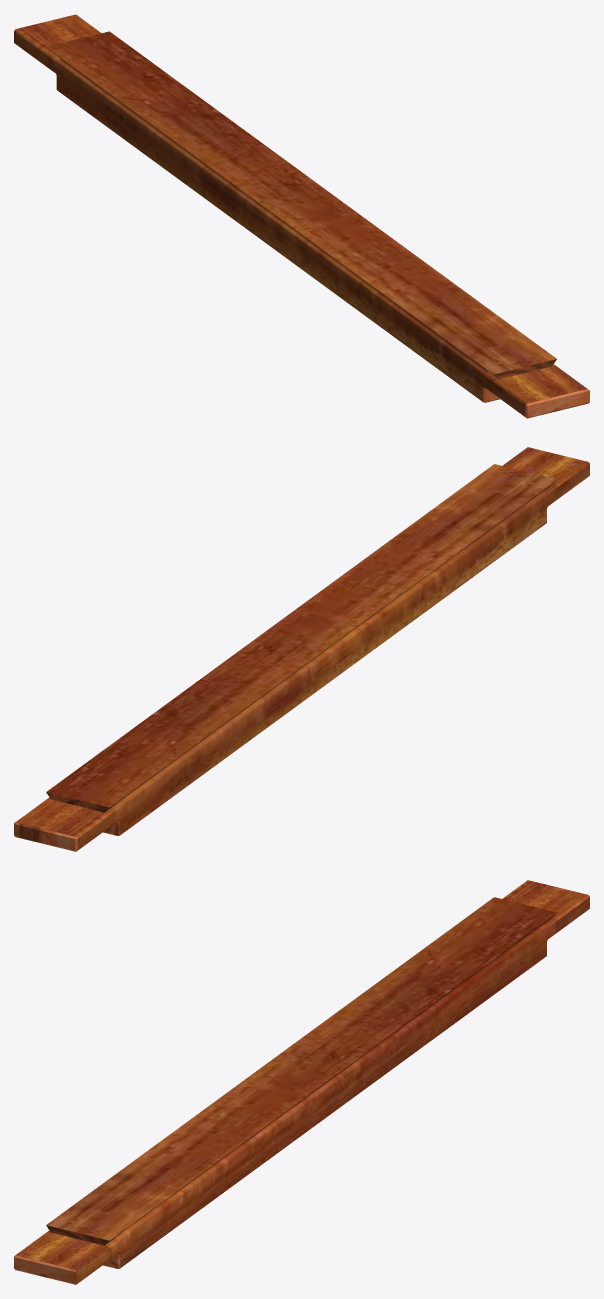
The model's file is SJ_J_dgcd_12.FBX.
3 views of the same model, one above another, from view 1: azimuth 30°, elevation 25°; view 2: azimuth 150°, elevation 25°; view 3: azimuth 330°, elevation 25° (orthographic).
Visible parts, largest first — view 1: SJ_J_dgcd_12; view 2: SJ_J_dgcd_12; view 3: SJ_J_dgcd_12.
Boxes of the visible parts, left/top/right/bottom form: SJ_J_dgcd_12: left=14, top=14, right=589, bottom=418; SJ_J_dgcd_12: left=14, top=447, right=589, bottom=851; SJ_J_dgcd_12: left=14, top=880, right=589, bottom=1284.
Bounding box in the file's own units: 3 × 1.67 × 42.01.
2 materials, 2 textured.
